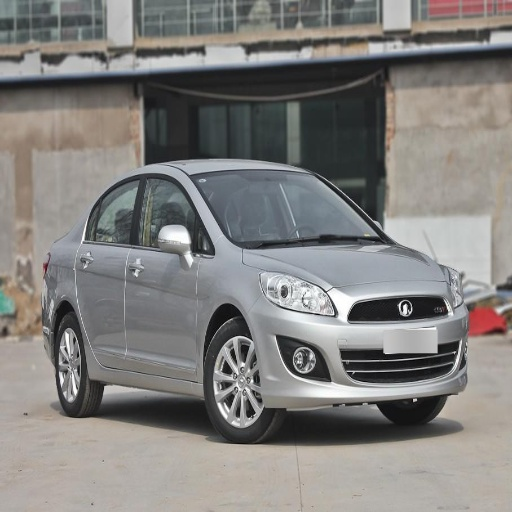front_bumper: (252, 283, 468, 408)
front_right_door: (127, 173, 204, 378)
front_right_light: (261, 273, 337, 317)
